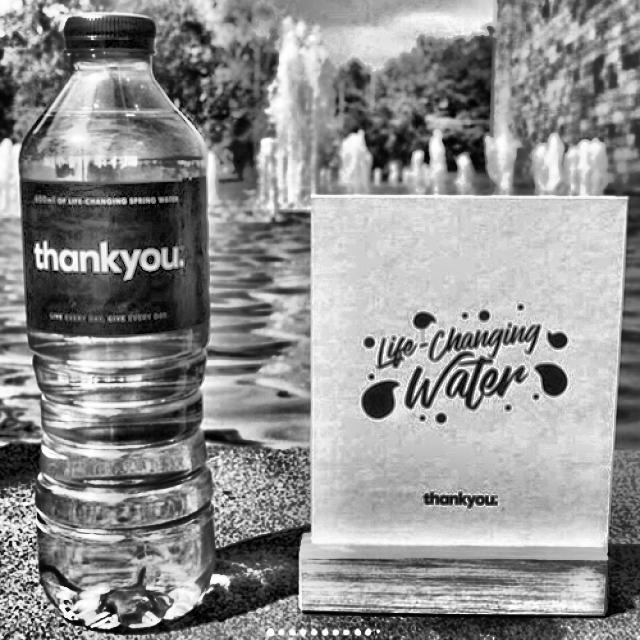waterbottle: (19, 13, 215, 632)
